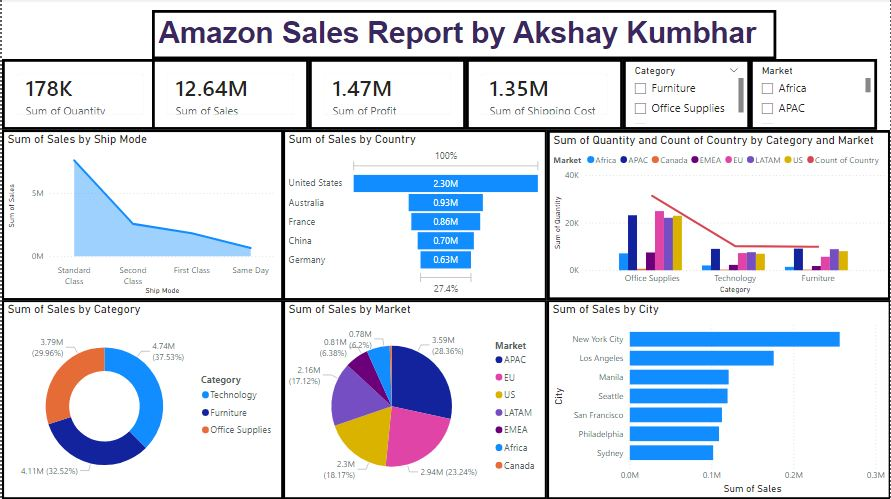

Layout of this report page (visuals, bound fields, positions):
{"tool":"powerbi","page":{"name":"Page 1","canvas":[1280,720],"ordinal":0},"visuals":[{"type":"donutChart","fields":{"Category":["Orders.Category"],"Y":["Sum(Orders.Sales)"]},"box":[0,433.4,404.6,286.6],"z":0},{"type":"pieChart","fields":{"Category":["Orders.Market"],"Y":["Sum(Orders.Sales)"]},"box":[404.6,433.4,380.2,286.6],"z":1000},{"type":"areaChart","fields":{"Category":["Orders.Ship Mode"],"Y":["Sum(Orders.Sales)"]},"box":[0,188.6,404.6,244.8],"z":2000},{"type":"clusteredBarChart","fields":{"Category":["Orders.City"],"Y":["Sum(Orders.Sales)"]},"box":[784.8,433.4,495.4,286.6],"z":3000},{"type":"funnel","fields":{"Category":["Orders.Country"],"Y":["Sum(Orders.Sales)"]},"box":[404.6,188.6,380.2,244.8],"z":4000},{"type":"textbox","box":[216,15.8,898.6,70.6],"z":4001},{"type":"lineClusteredColumnComboChart","fields":{"Y":["Sum(Orders.Quantity)"],"Category":["Orders.Category"],"Y2":["CountNonNull(Orders.Country)"],"Series":["Orders.Market"]},"box":[784.8,188.6,495.4,244.8],"z":4002},{"type":"cardVisual","fields":{"Data":["Sum(Orders.Quantity)"]},"box":[0,86.4,226.1,102.2],"z":4003},{"type":"cardVisual","fields":{"Data":["Sum(Orders.Sales)"]},"box":[216,86.4,226.1,102.2],"z":4004},{"type":"cardVisual","fields":{"Data":["Sum(Orders.Profit)"]},"box":[442.1,86.4,226.1,102.2],"z":4005},{"type":"cardVisual","fields":{"Data":["Sum(Orders.Shipping Cost)"]},"box":[668.2,86.4,226.1,102.2],"z":4006},{"type":"slicer","fields":{"Values":["Orders.Category"]},"box":[894.2,86.4,182.9,102.2],"z":4007},{"type":"slicer","fields":{"Values":["Orders.Market"]},"box":[1077.1,86.4,182.9,102.2],"z":4008}]}

Visuals, with their boxes in screenshot pixels (x1, y1, x2, y2), scaled from the page's 1280x720 canvas onto the 891x499 screenshot:
donutChart - Orders.Category x Sum(Orders.Sales): BBox(0, 300, 282, 498)
pieChart - Orders.Market x Sum(Orders.Sales): BBox(282, 300, 546, 498)
areaChart - Orders.Ship Mode x Sum(Orders.Sales): BBox(0, 131, 282, 300)
clusteredBarChart - Orders.City x Sum(Orders.Sales): BBox(546, 300, 890, 498)
funnel - Orders.Country x Sum(Orders.Sales): BBox(282, 131, 546, 300)
textbox: BBox(150, 11, 776, 60)
lineClusteredColumnComboChart - Sum(Orders.Quantity) x Orders.Category: BBox(546, 131, 890, 300)
cardVisual - Sum(Orders.Quantity): BBox(0, 60, 157, 131)
cardVisual - Sum(Orders.Sales): BBox(150, 60, 308, 131)
cardVisual - Sum(Orders.Profit): BBox(308, 60, 465, 131)
cardVisual - Sum(Orders.Shipping Cost): BBox(465, 60, 623, 131)
slicer - Orders.Category: BBox(622, 60, 750, 131)
slicer - Orders.Market: BBox(750, 60, 877, 131)
